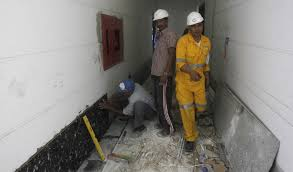helmet: (185, 10, 202, 24), (153, 9, 170, 20)
